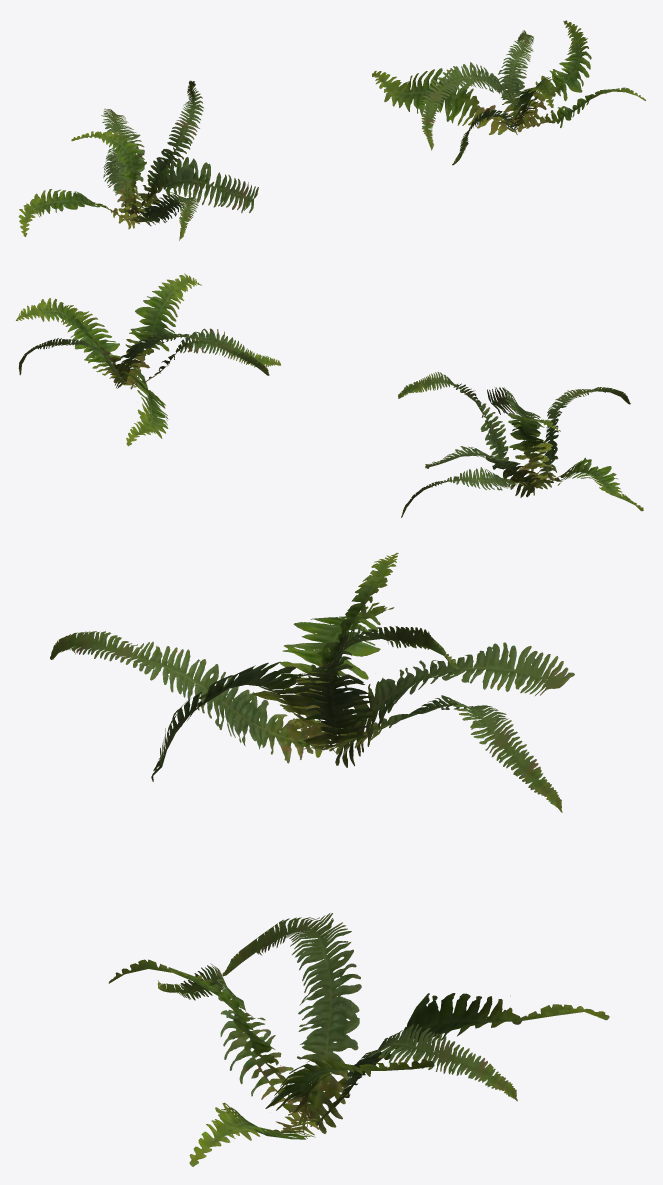
Rendered from fern_02.glb.
3 renders of one model, top to bottom at view 1: azimuth 30°, elevation 25°; view 2: azimuth 150°, elevation 25°; view 3: azimuth 270°, elevation 25°, orthographic. The views are drawn at different scales.
Visible parts, largest first — view 1: fern_02_a, fern_02_d; view 2: fern_02_d, fern_02_a; view 3: fern_02_a, fern_02_d.
Part boxes in pixels (box(x1,y1,x2,y2)): fern_02_a: box(18, 80, 258, 240); fern_02_d: box(372, 20, 645, 165); fern_02_d: box(16, 273, 280, 446); fern_02_a: box(398, 372, 643, 517); fern_02_a: box(50, 553, 574, 812); fern_02_d: box(108, 913, 609, 1166).
Bounding box in the file's own units: 1.58 × 0.2868 × 0.6543.
1 material, 1 textured.
